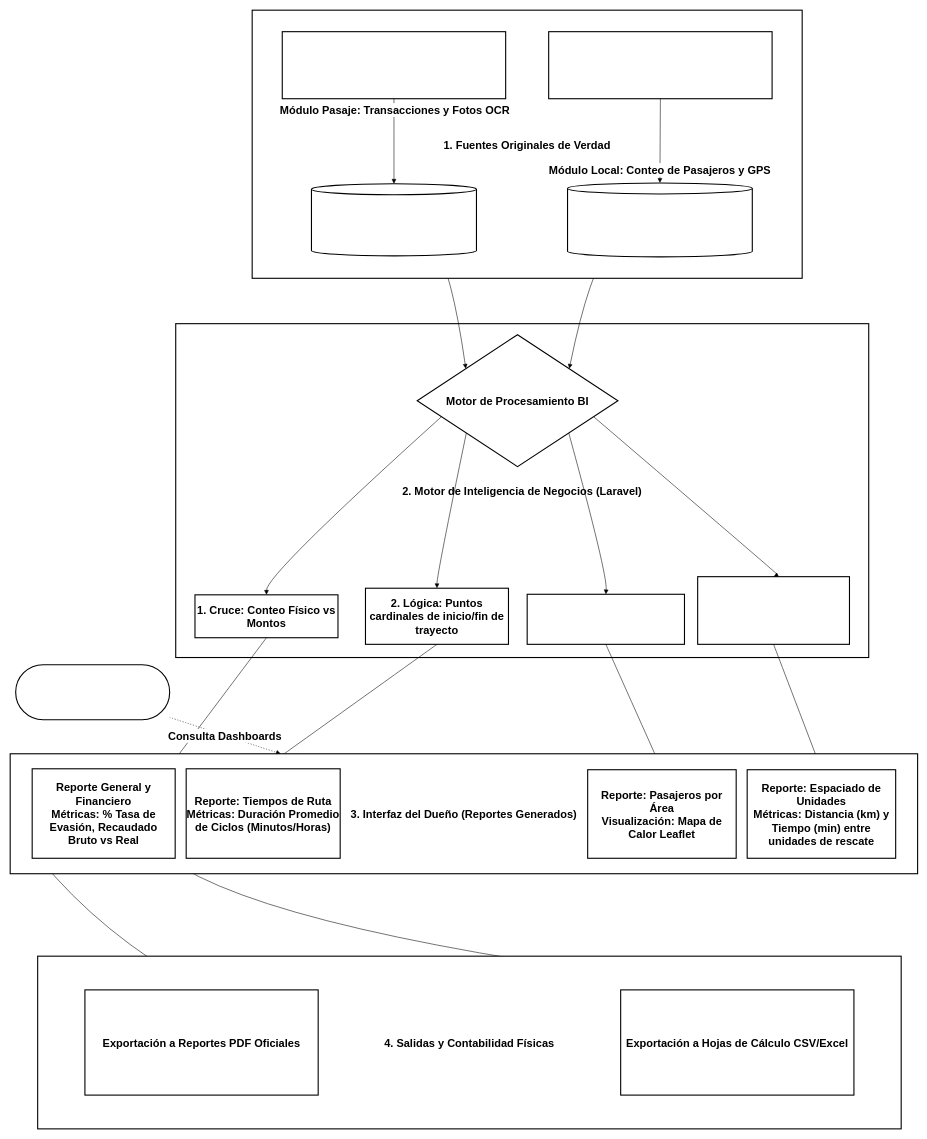
Image size: 927x1139. Some labels were removed from this diagram. The shapes that lost their labels are listed below. From the top down, each one's centre as x and y in pixels, then its label:
At point (393, 65): "PWA Operativos: Conductores y Colectores".
At point (660, 65): "Computadora de Procesamiento (Autobús)".
At point (394, 219): "Tabla: Ingresos Manuales".
At point (660, 219): "Tabla: Eventos Telemétricos".
At point (605, 619): "3. Lógica: Agrupación GPS por densidades / polígonos".
At point (773, 610): "4. Lógica: Geolocalización comparativa entre múltiples autobuses".
At point (92, 692): "Usuario Dueño / Administrador".
